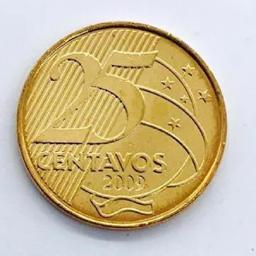25 cent: (15, 19, 228, 231)
